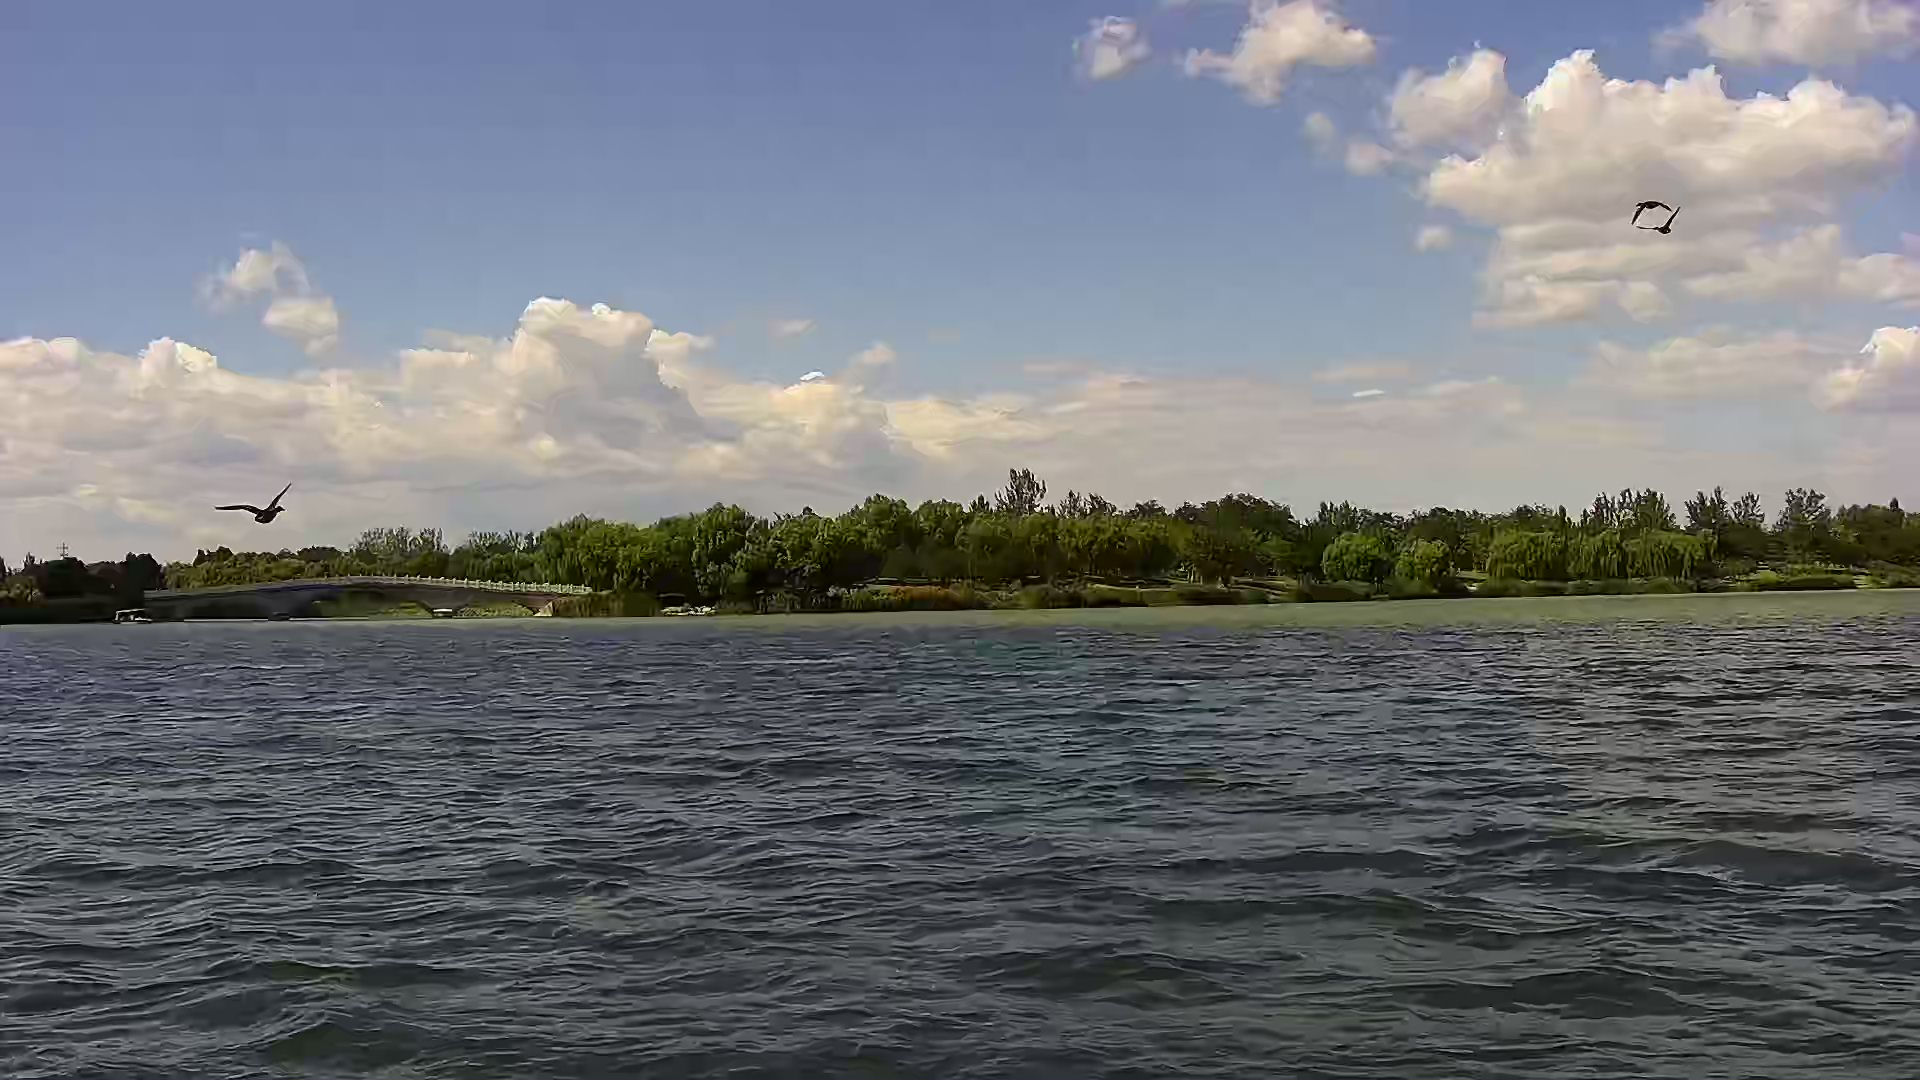bridge: (142, 575, 589, 626)
